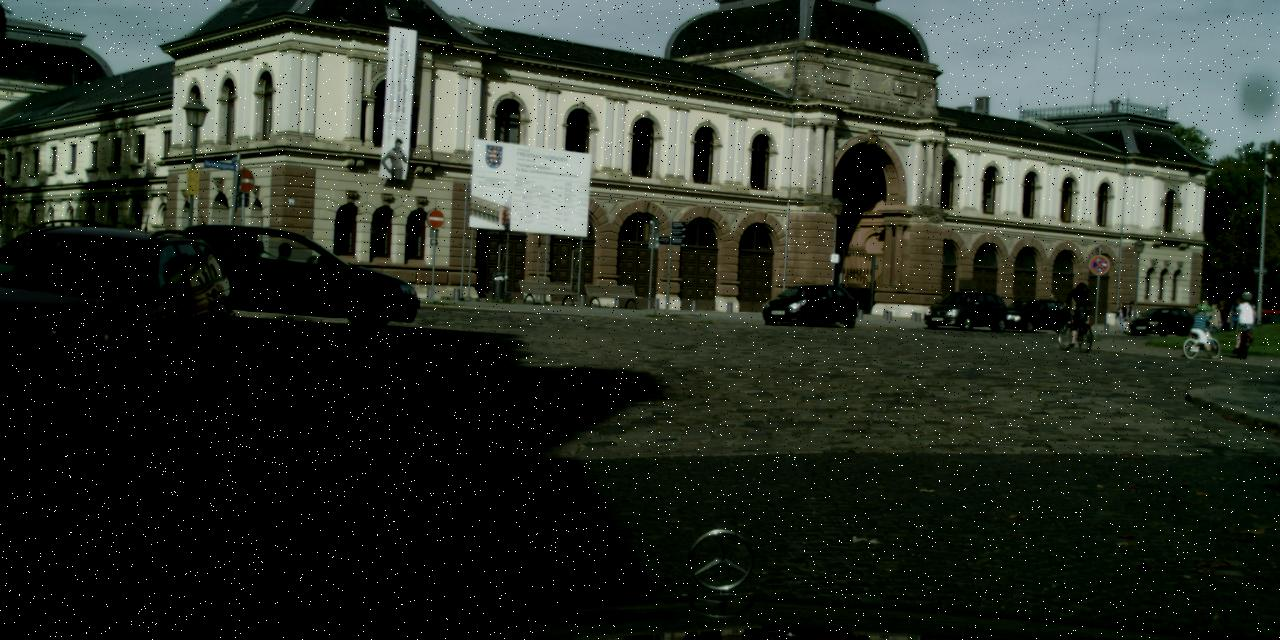ped: (1067, 281, 1092, 341), (1234, 291, 1256, 346), (1194, 302, 1213, 350), (1230, 298, 1244, 332), (1198, 299, 1210, 331), (1215, 298, 1227, 330), (1046, 294, 1058, 326), (1114, 301, 1126, 331), (1126, 301, 1138, 331), (1208, 304, 1220, 334)
